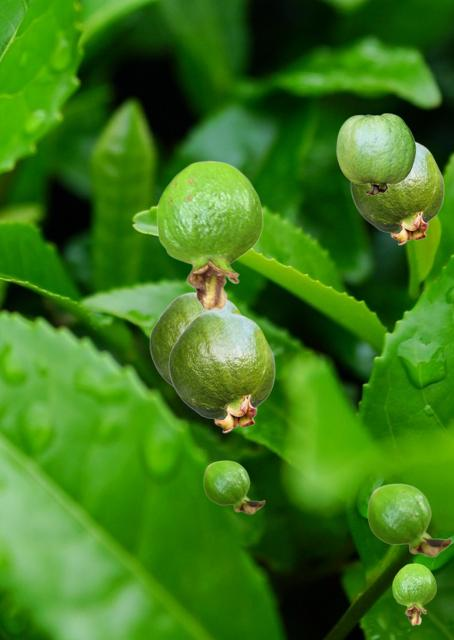guava: (156, 160, 262, 310), (168, 311, 274, 432), (350, 141, 443, 244), (149, 292, 241, 386), (336, 113, 415, 194), (367, 483, 451, 556), (203, 460, 264, 513), (392, 563, 435, 624)
